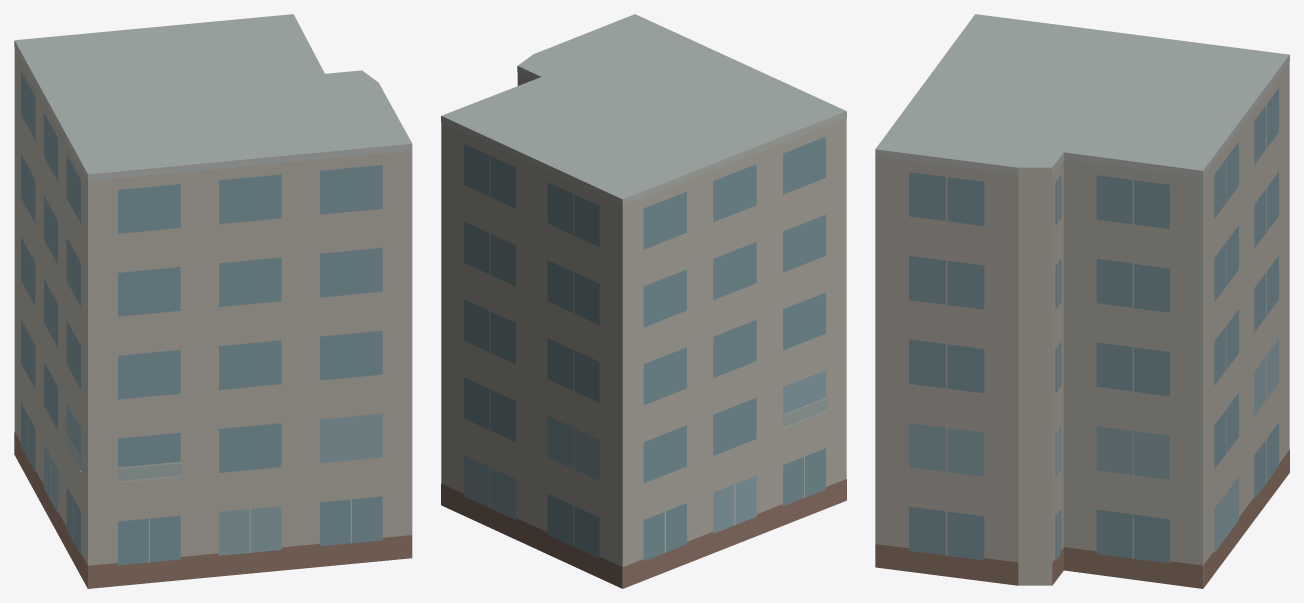
Rendered from survey-upis-32536119.glb.
The picture shows the model from 3 angles, left to right: view 1: azimuth 30°, elevation 25°; view 2: azimuth 150°, elevation 25°; view 3: azimuth 270°, elevation 25°; orthographic projection. The views are drawn at different scales.
Parts seen in each view (by area): view 1: survey-upis-32536119.tmp; view 2: survey-upis-32536119.tmp; view 3: survey-upis-32536119.tmp.
Boxes of the visible parts, left/top/right/bottom form: survey-upis-32536119.tmp: left=14, top=14, right=412, bottom=588; survey-upis-32536119.tmp: left=441, top=14, right=846, bottom=588; survey-upis-32536119.tmp: left=875, top=14, right=1289, bottom=588.
Size of the model in its own units: 11.76 by 14.6 by 13.13.
